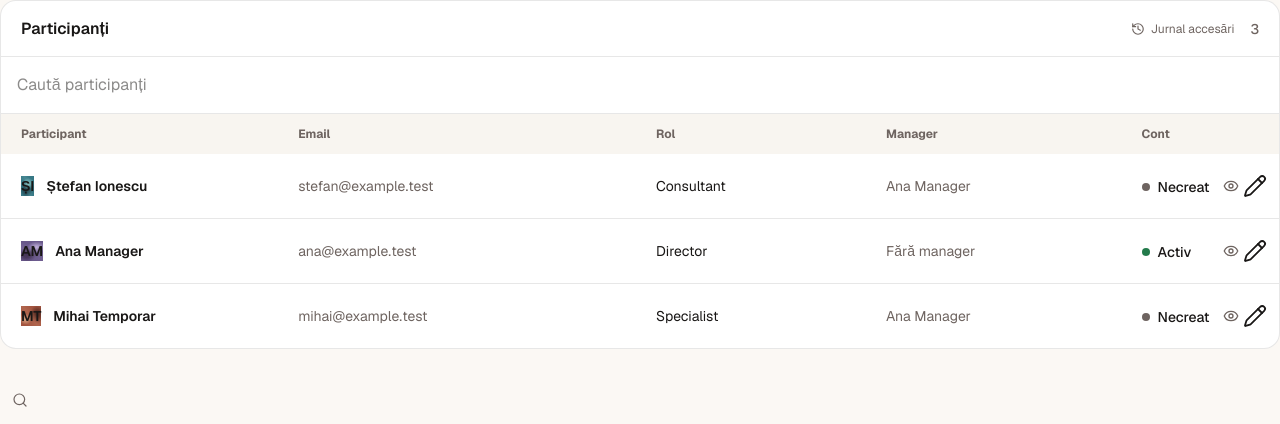
Scenario: CompanyParticipantsTable › filters company participants without diacritics and persists the query in the URL
Type "stefan" into the search field named "Caută participant" at [126, 85], box [17,73,235,97]
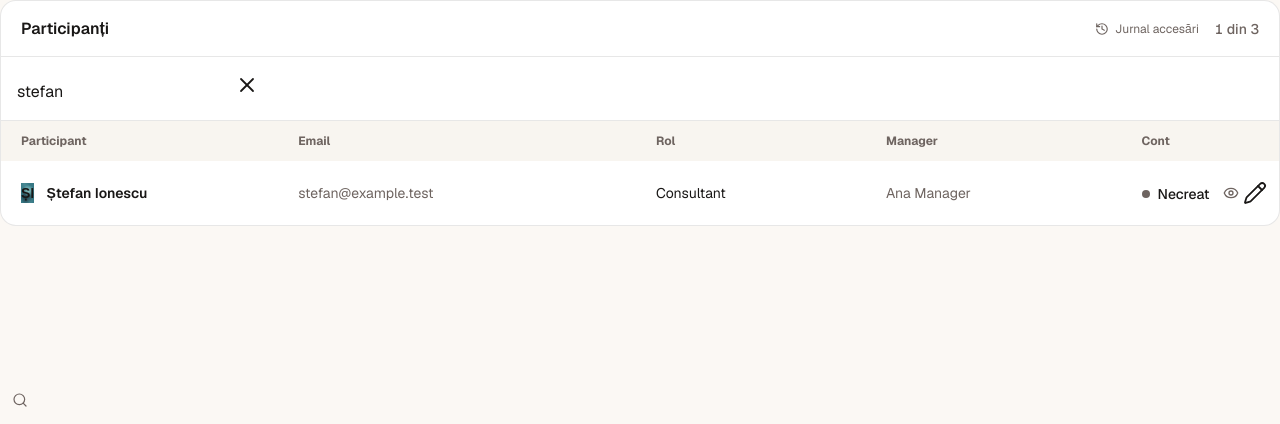
Check: the text "Ștefan Ionescu" is shown, box [46,183,147,203]
Check: the text "ana@example.test" is gone
